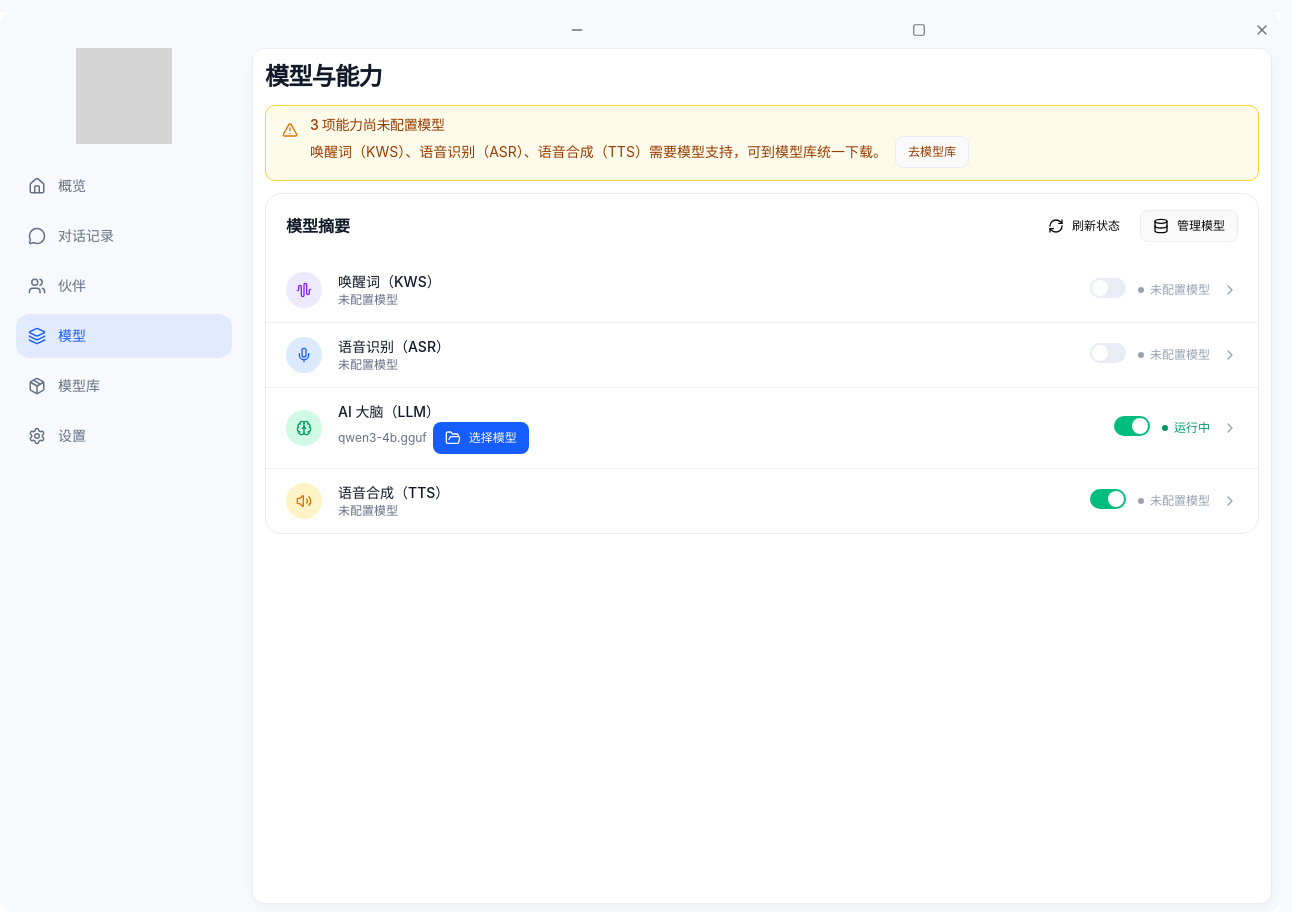
Scenario: App（KWS 控制面板） › LLM 卸载失败：右上角通知展示真实原因（如语音会话占用）
The image size is (1292, 912).
# 开启的 LLM 开关（toggled 绑 ready），点击触发 unload
Click the switch named "AI 大脑（LLM）开关" at [1132, 426], box top-left (1114, 416), bottom-right (1150, 436)
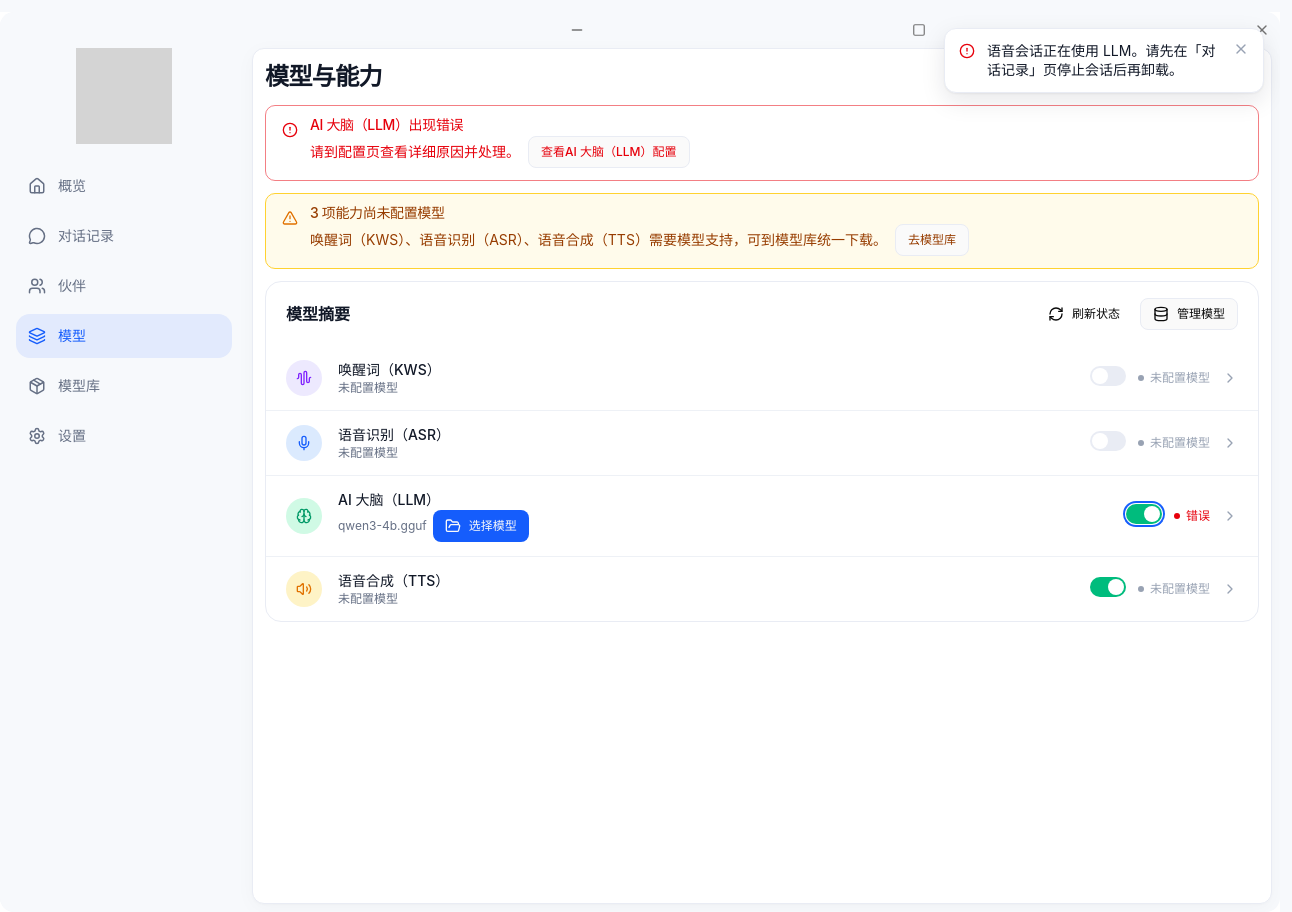
Check: the text "语音会话正在使用 LLM。请先在「对话记录」页停止会话后再卸载。" is shown, box top-left (987, 41), bottom-right (1221, 80)
